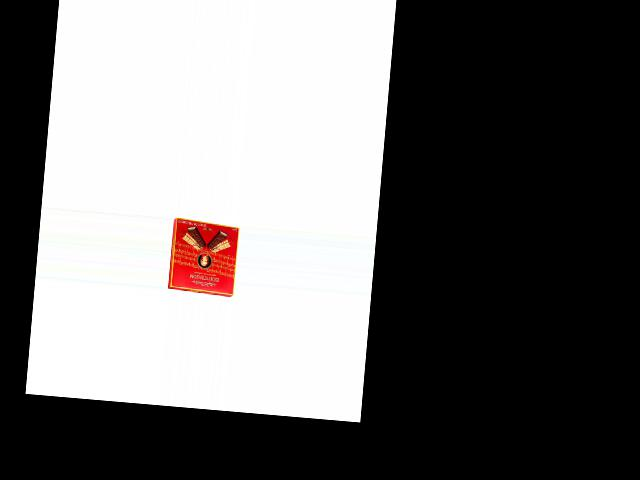chocolate: (167, 215, 241, 296)
